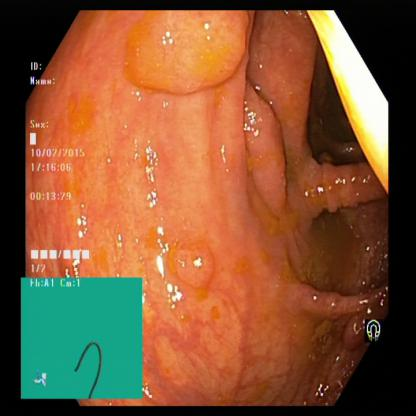Labels: (20, 278, 144, 400), (26, 63, 96, 278), (351, 312, 386, 351)
Polyps: (127, 11, 250, 95), (160, 224, 222, 289)
